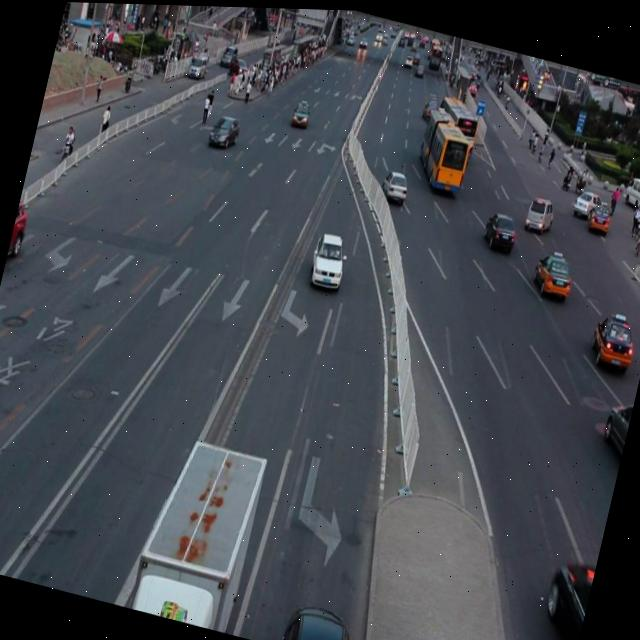bus: (128, 425, 270, 633)
car: (533, 549, 596, 640), (279, 593, 359, 640), (585, 304, 639, 368), (306, 227, 350, 290), (597, 392, 634, 455), (530, 246, 574, 297), (480, 206, 519, 250), (6, 201, 32, 262)
